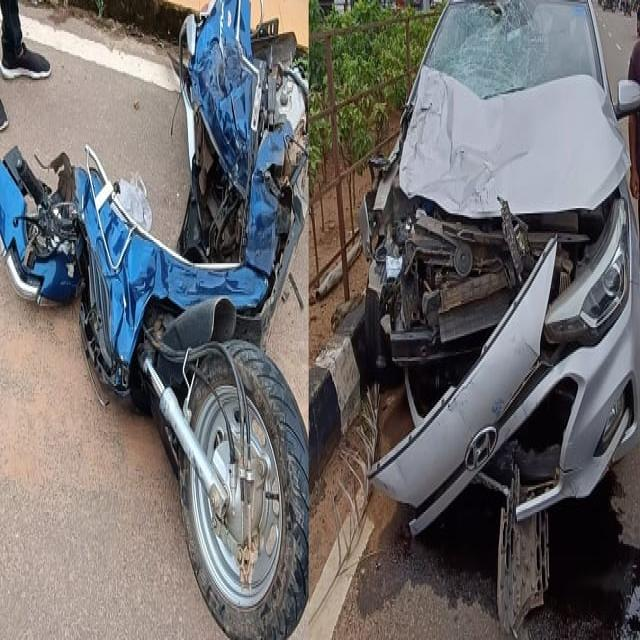accident: (0, 0, 309, 638), (360, 0, 640, 628)
